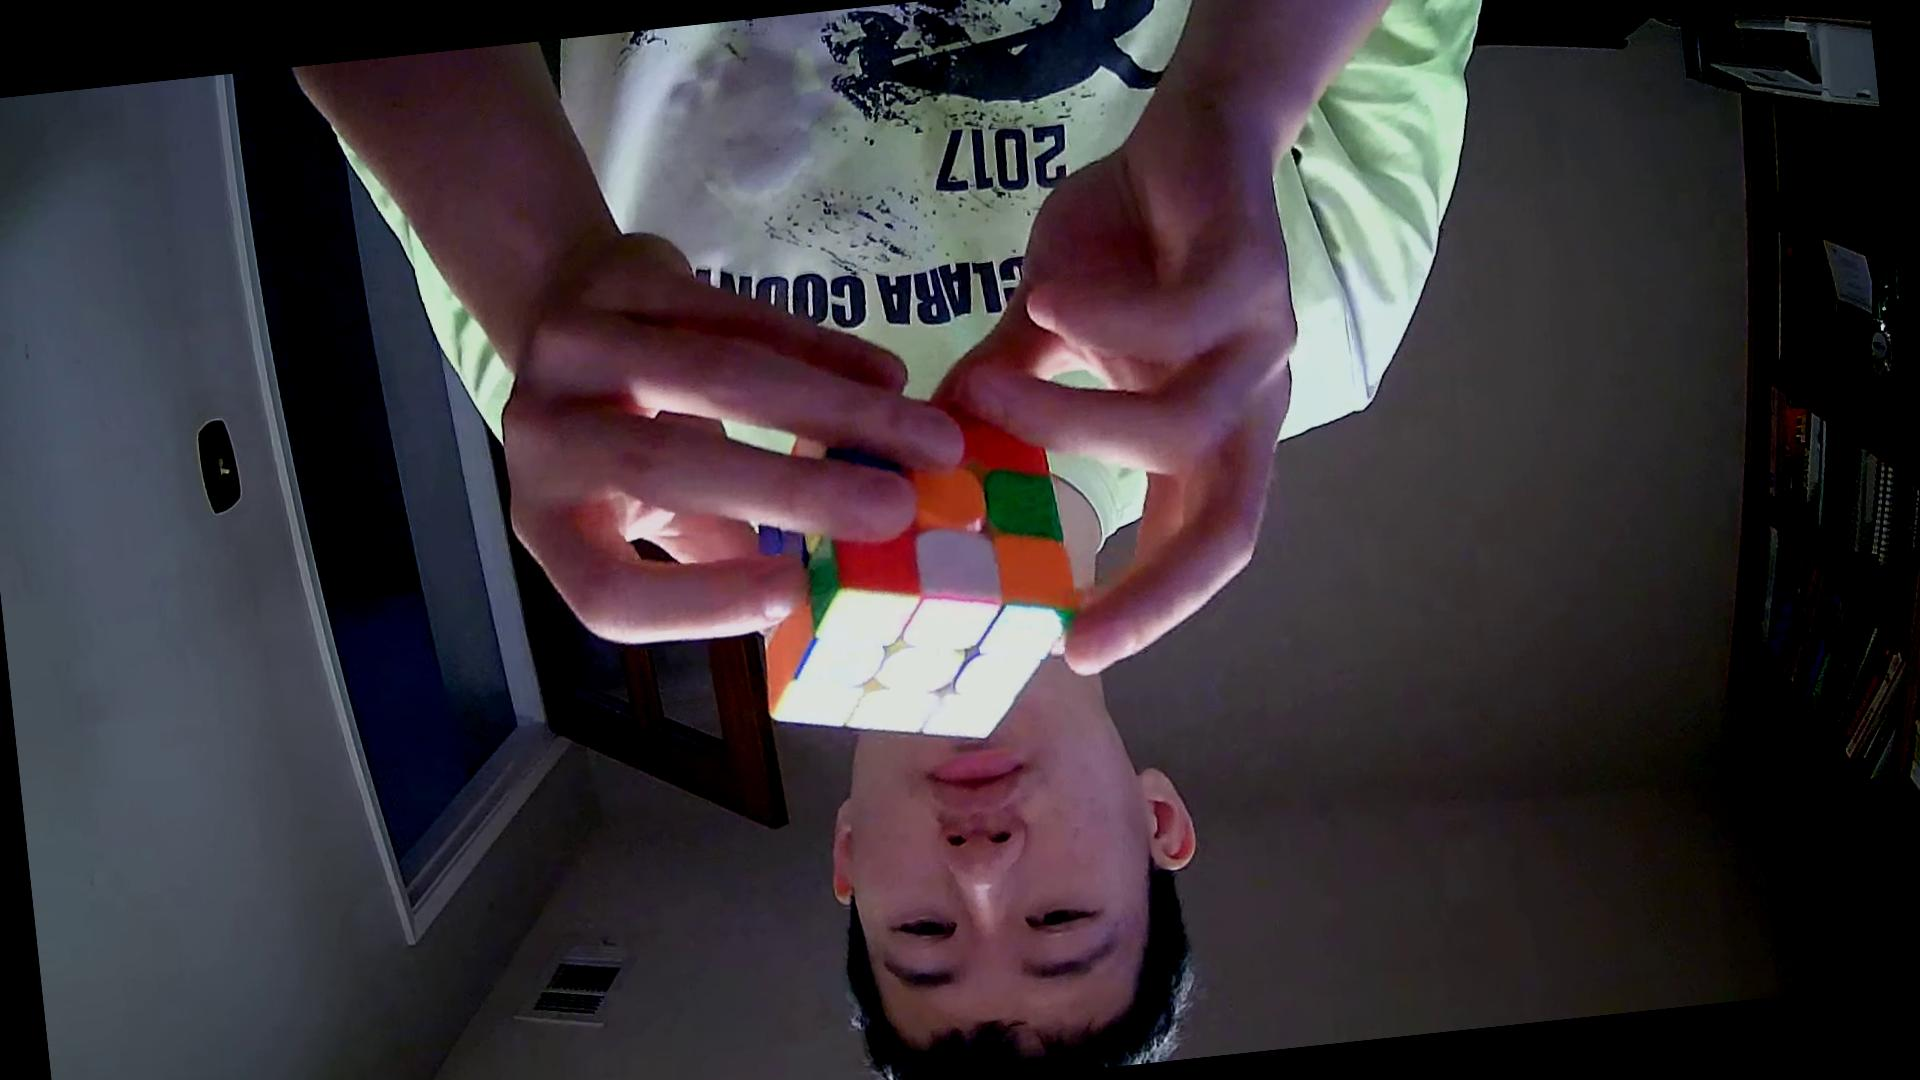Rubiks-Cube: (729, 389, 1096, 766)
